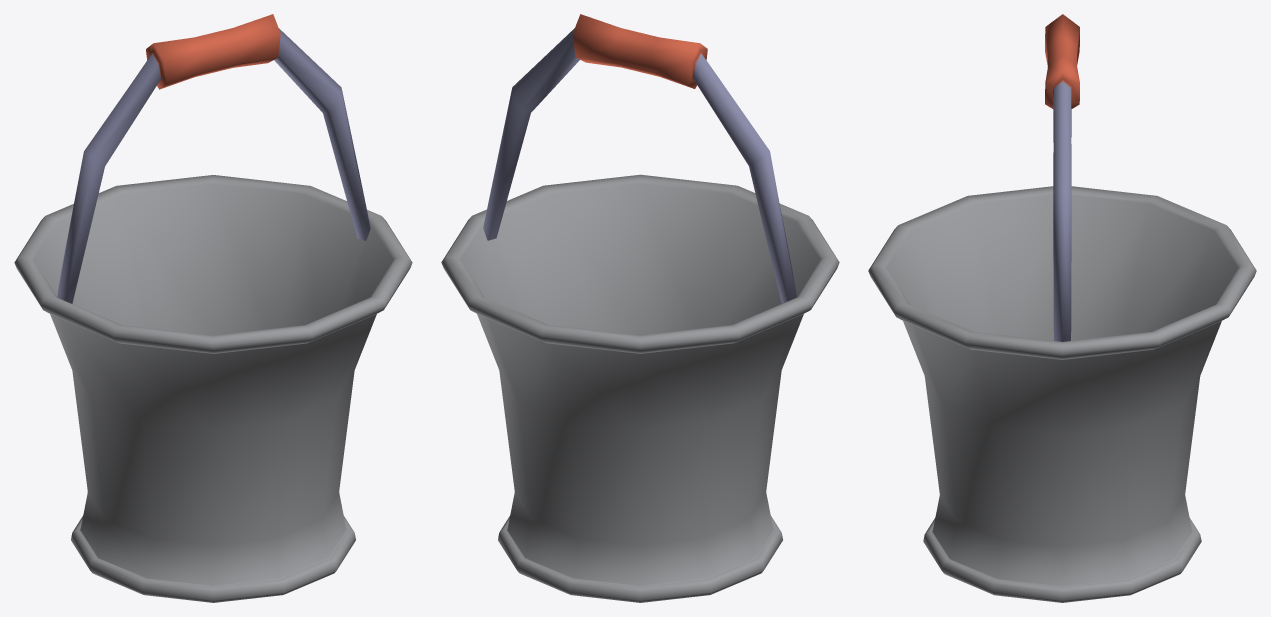
Rendered from Bucket.fbx.
The picture shows the model from 3 angles, left to right: view 1: azimuth 30°, elevation 25°; view 2: azimuth 150°, elevation 25°; view 3: azimuth 270°, elevation 25°; orthographic projection. The views are drawn at different scales.
Parts seen in each view (by area): view 1: bucket; view 2: bucket; view 3: bucket.
Boxes of the visible parts, x1,y1,x2,y2 form: bucket: (14, 14, 412, 602); bucket: (441, 14, 839, 602); bucket: (868, 14, 1256, 602).
Bounding box in the file's own units: 132 × 189 × 132.
